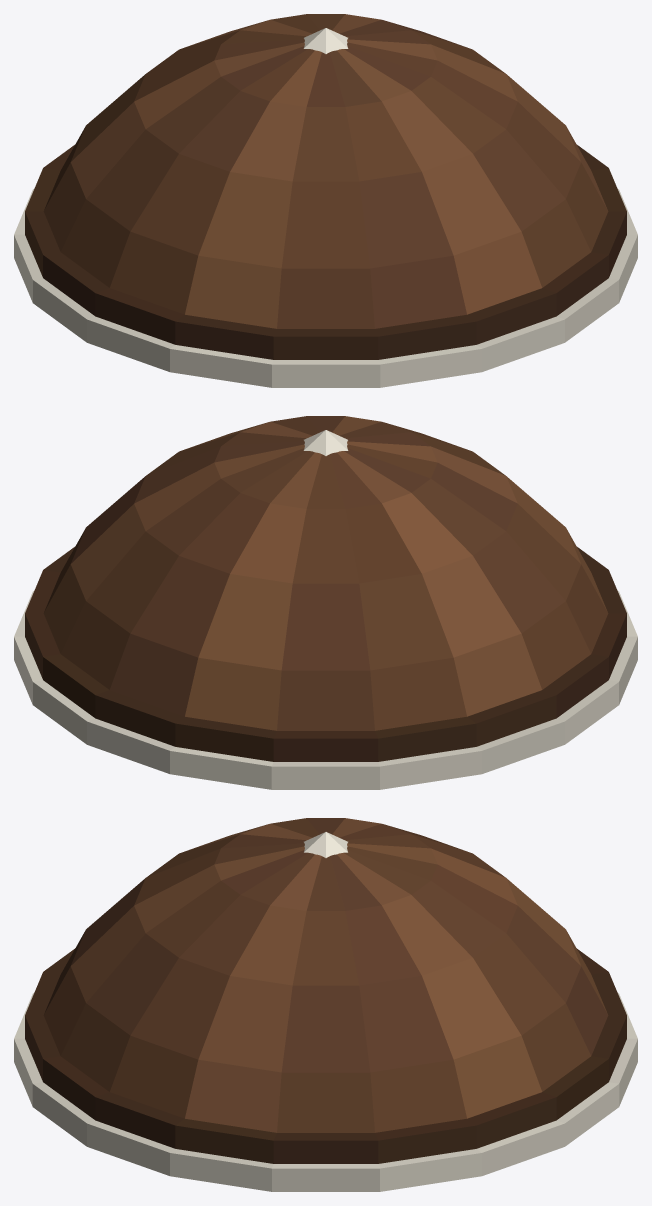
File: armor_head_cap.glb
3 views of the same model, one above another, from view 1: azimuth 30°, elevation 25°; view 2: azimuth 150°, elevation 25°; view 3: azimuth 270°, elevation 25° (orthographic).
Parts seen in each view (by area): view 1: armor_head_cap; view 2: armor_head_cap; view 3: armor_head_cap.
Part boxes in pixels (x1,y1,x2,y2): armor_head_cap: [14, 14, 637, 387]; armor_head_cap: [14, 416, 637, 789]; armor_head_cap: [14, 818, 637, 1191].
Bounding box in the file's own units: 0.5955 × 0.2462 × 0.6046.
